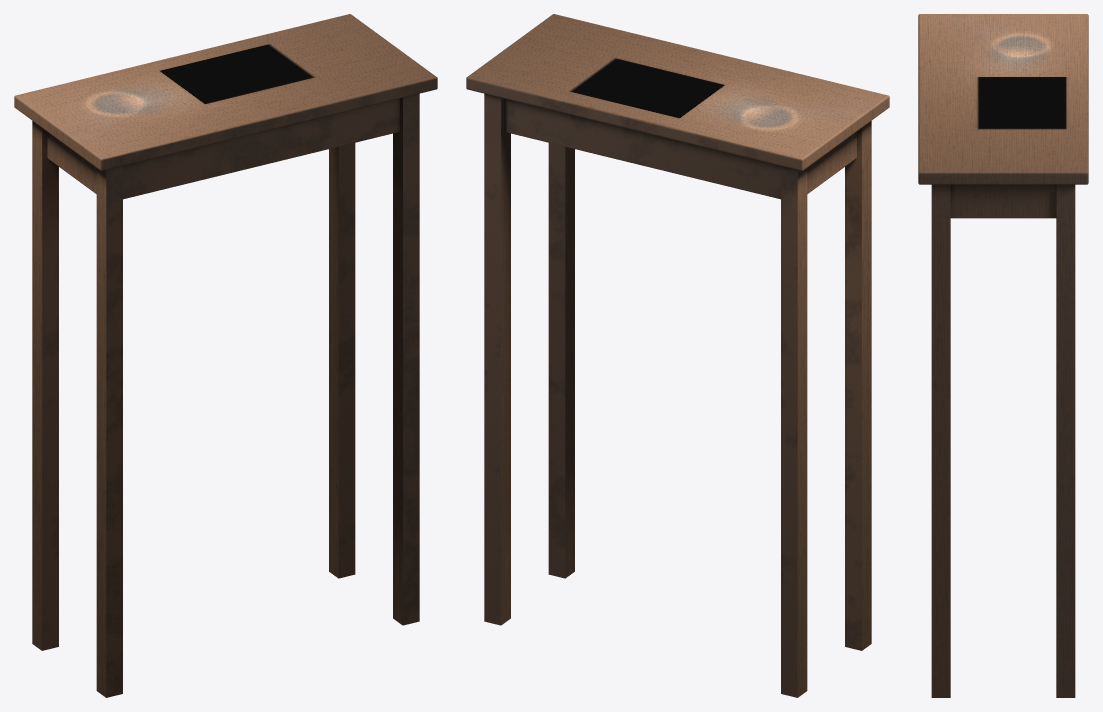
Rendered from 408_hook.glb.
The picture shows the model from 3 angles, left to right: view 1: azimuth 30°, elevation 25°; view 2: azimuth 150°, elevation 25°; view 3: azimuth 270°, elevation 25°; orthographic projection. The views are drawn at different scales.
Visible parts, largest first — view 1: Table; view 2: Table; view 3: Table.
Boxes of the visible parts, x1,y1,x2,y2 form: Table: [14, 14, 437, 697]; Table: [466, 14, 889, 697]; Table: [918, 14, 1088, 697].
Size of what is drawn, in the model's own units: 2 by 3.1 by 0.9.
Materials: 1 (1 with a texture image).
